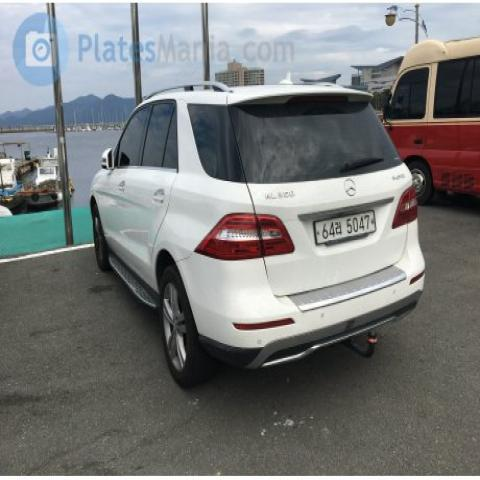LP: (308, 198, 390, 255)
